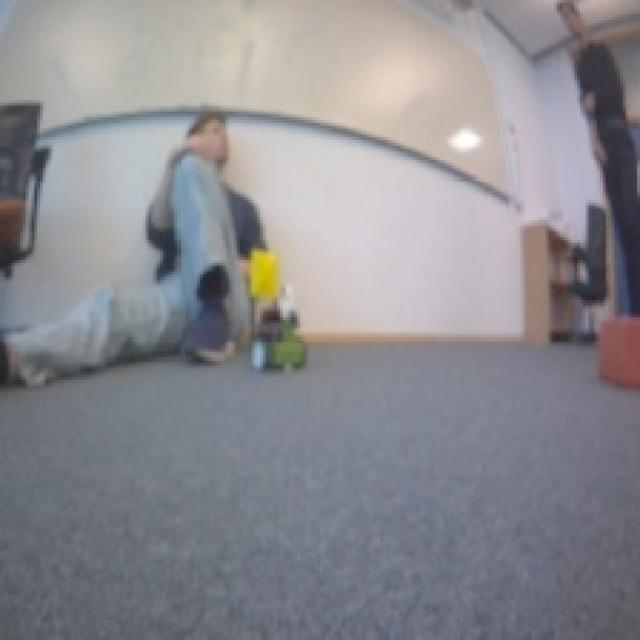robot: (246, 304, 310, 372)
target: (594, 308, 637, 392)
